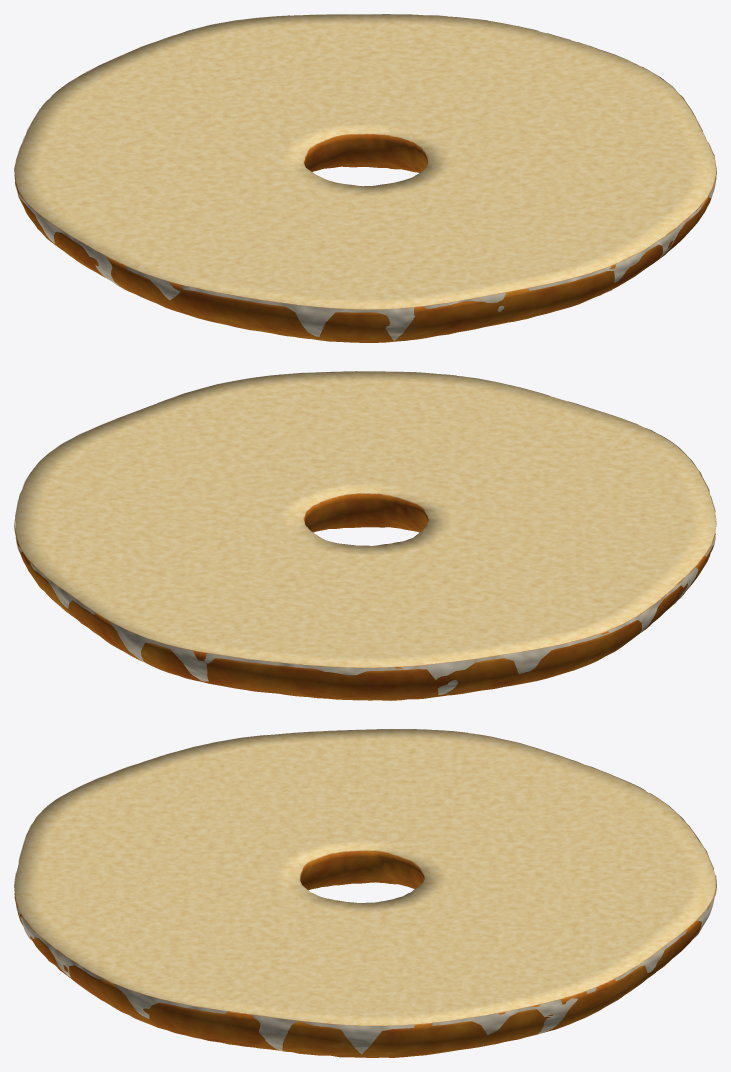
File: dona-bottom.glb
The picture shows the model from 3 angles, top to bottom: view 1: azimuth 30°, elevation 25°; view 2: azimuth 150°, elevation 25°; view 3: azimuth 270°, elevation 25°; orthographic projection.
Visible parts, largest first — view 1: dona-bottom; view 2: dona-bottom; view 3: dona-bottom.
Part boxes in pixels (box(x1,y1,x2,y2)): dona-bottom: box(14, 14, 716, 342); dona-bottom: box(14, 371, 716, 700); dona-bottom: box(14, 729, 716, 1057).
Size of the model in its own units: 2.27 by 0.2615 by 2.27.
1 material, 1 textured.
